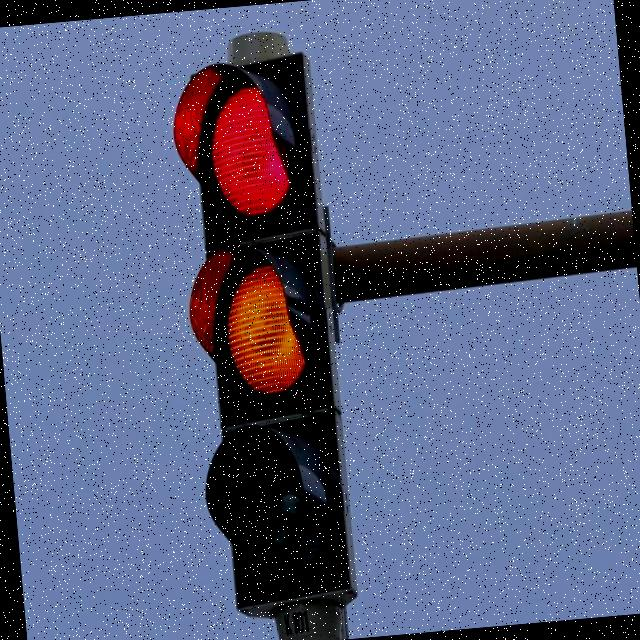Zolte swiatlo: (171, 50, 360, 616)
